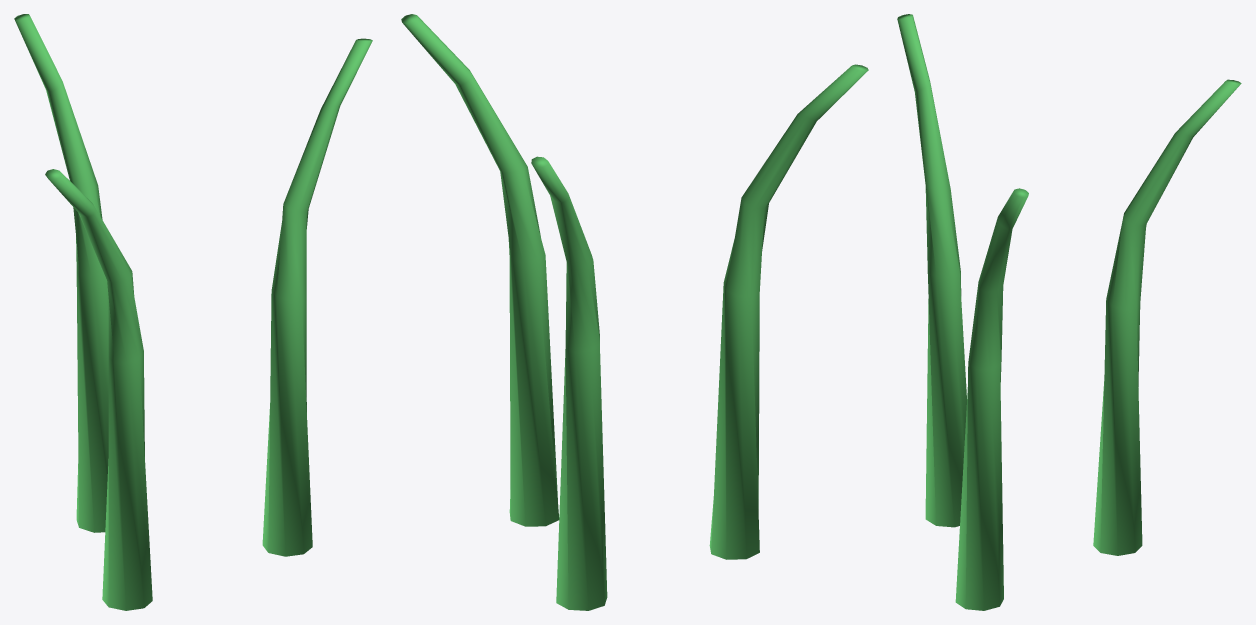
Rendered from CloverPatch.fbx.
The picture shows the model from 3 angles, left to right: view 1: azimuth 30°, elevation 25°; view 2: azimuth 150°, elevation 25°; view 3: azimuth 270°, elevation 25°; orthographic projection. The views are drawn at different scales.
Visible parts, largest first — view 1: CloverStem2, CloverStem3, CloverStem1; view 2: CloverStem2, CloverStem3, CloverStem1; view 3: CloverStem1, CloverStem3, CloverStem2.
Boxes of the visible parts, box(x1,y1,x2,y2) form: CloverStem2: box(262, 38, 372, 556); CloverStem3: box(45, 169, 152, 610); CloverStem1: box(14, 14, 108, 532); CloverStem2: box(401, 14, 559, 526); CloverStem3: box(709, 64, 868, 559); CloverStem1: box(531, 156, 607, 610); CloverStem1: box(1093, 79, 1241, 555); CloverStem3: box(897, 14, 966, 527); CloverStem2: box(955, 188, 1028, 610).
Size of the model in its own units: 21.95 by 25.55 by 17.48.
